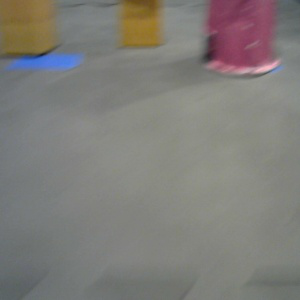Right: (205, 2, 280, 76)
